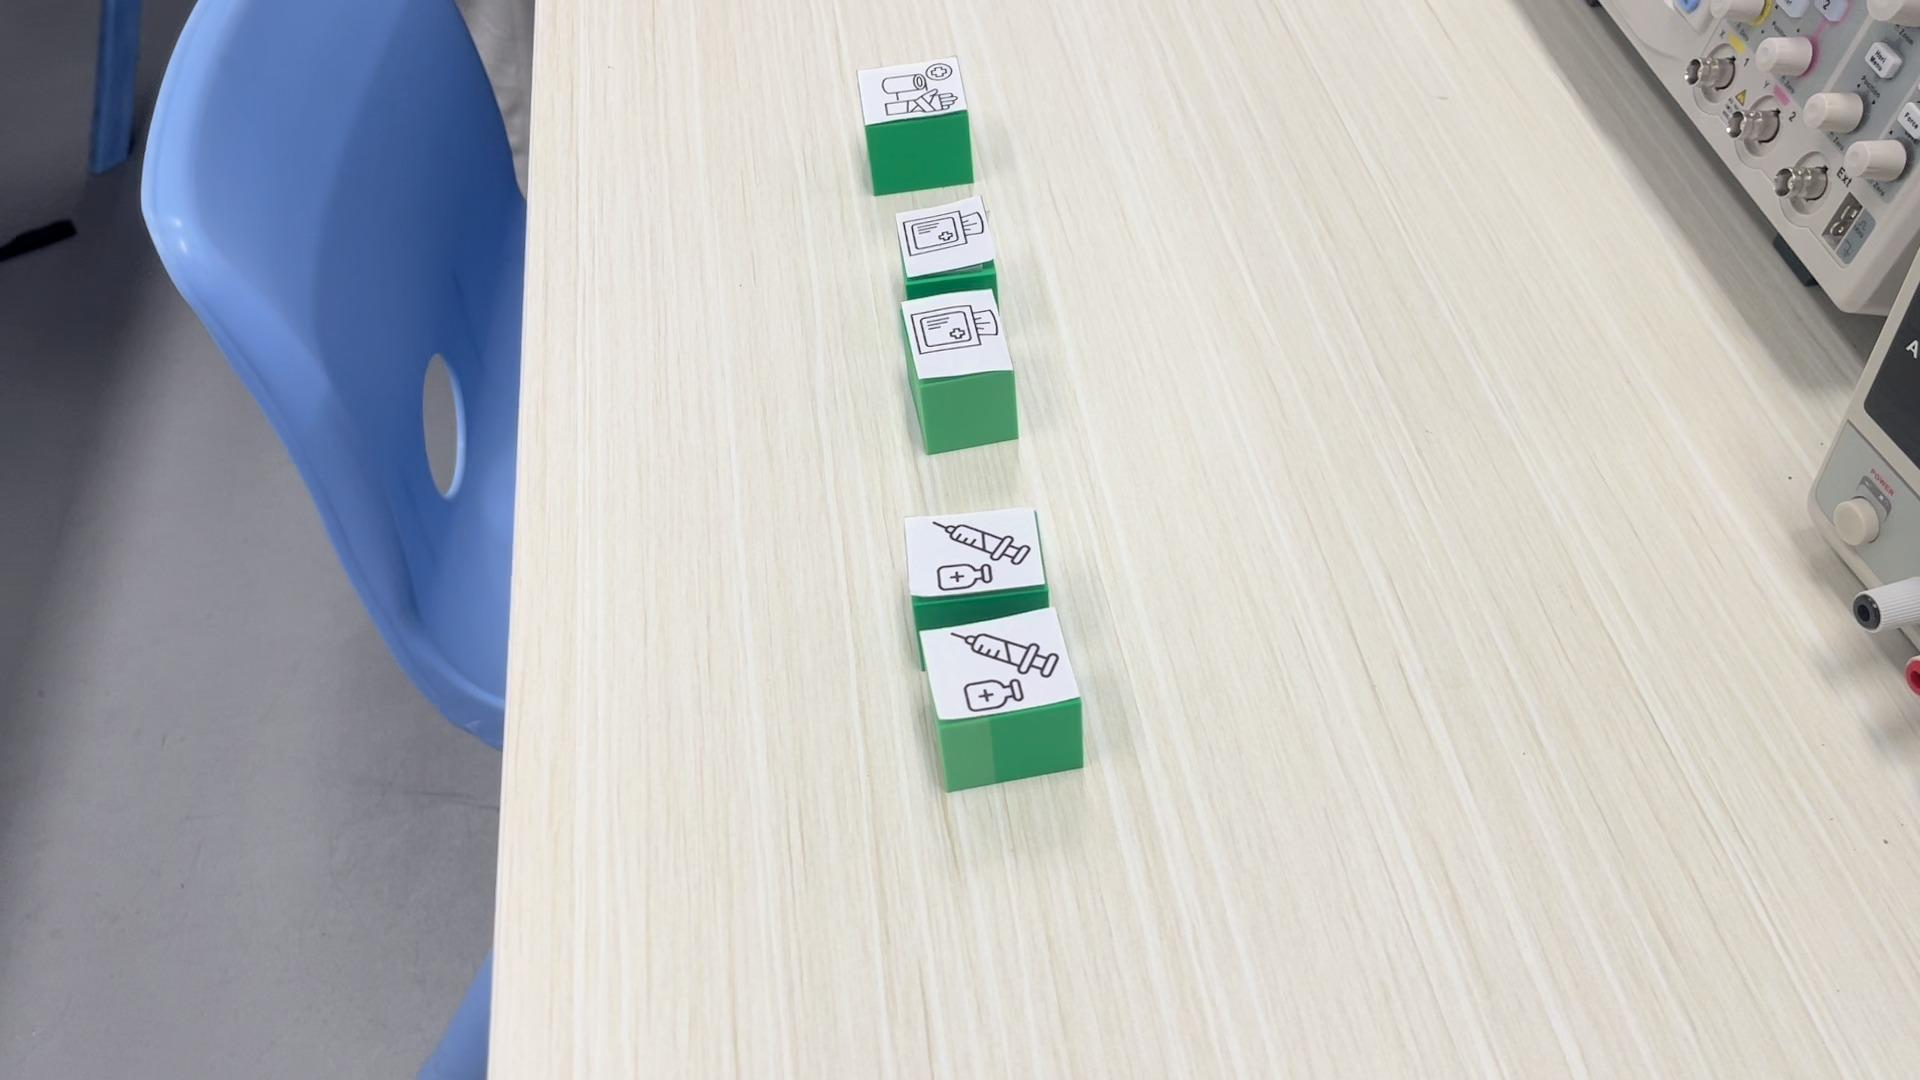Bandages: (851, 57, 975, 195)
Gauze: (898, 286, 1018, 456), (895, 194, 997, 289)
antiseptic cream: (913, 599, 1084, 791), (903, 506, 1048, 616)
